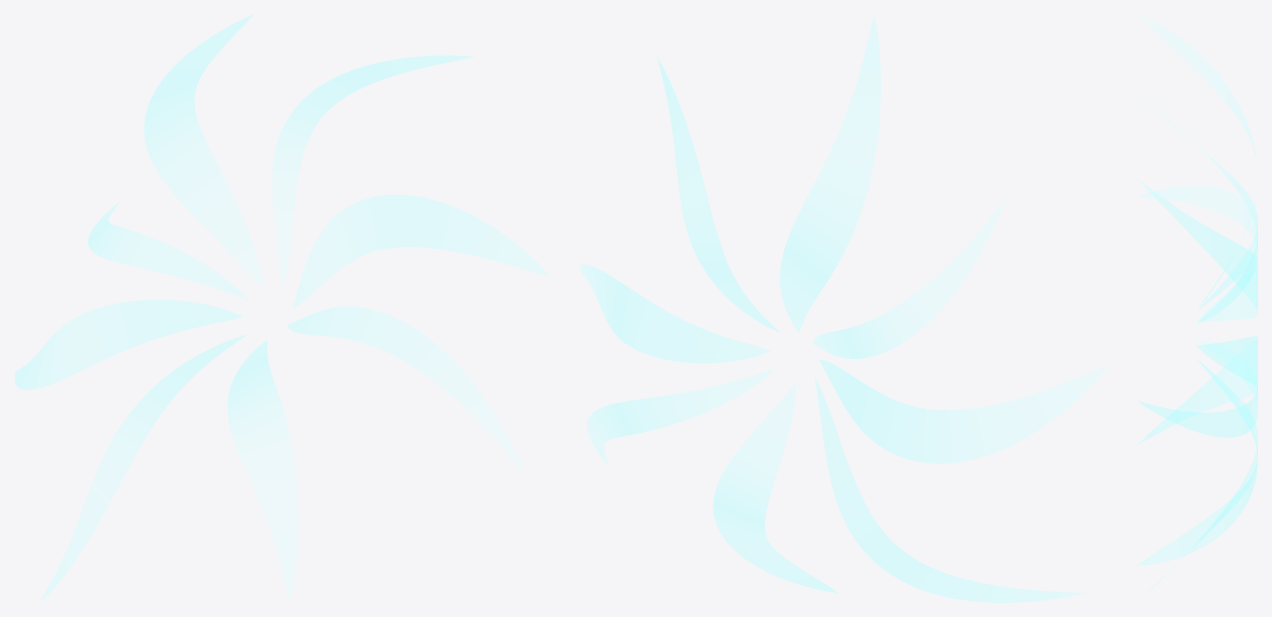
File: qi-impact-r3.glb
3 views of the same model, side by side, from view 1: azimuth 30°, elevation 25°; view 2: azimuth 150°, elevation 25°; view 3: azimuth 270°, elevation 25° (orthographic). The views are drawn at different scales.
Parts seen in each view (by area): view 1: qi-impact-r3; view 2: qi-impact-r3; view 3: qi-impact-r3.
Boxes of the visible parts, <box> form: qi-impact-r3: <box>15,15,550,601</box>; qi-impact-r3: <box>580,15,1107,602</box>; qi-impact-r3: <box>1137,15,1257,596</box>.
Bounding box in the file's own units: 1.31 × 1.39 × 0.2845.
